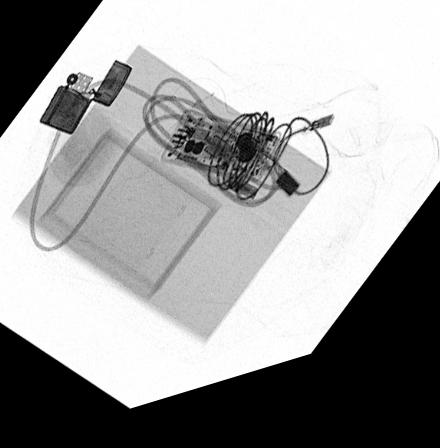Lighter: (38, 64, 133, 138)
